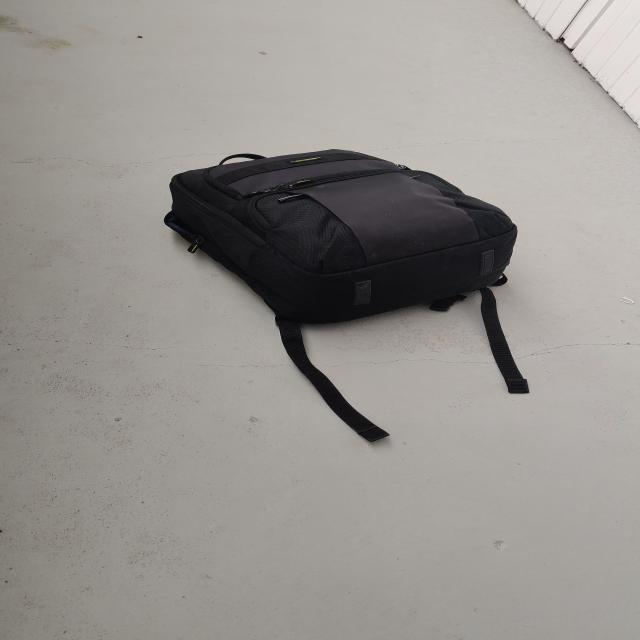backpack: (150, 142, 529, 336)
